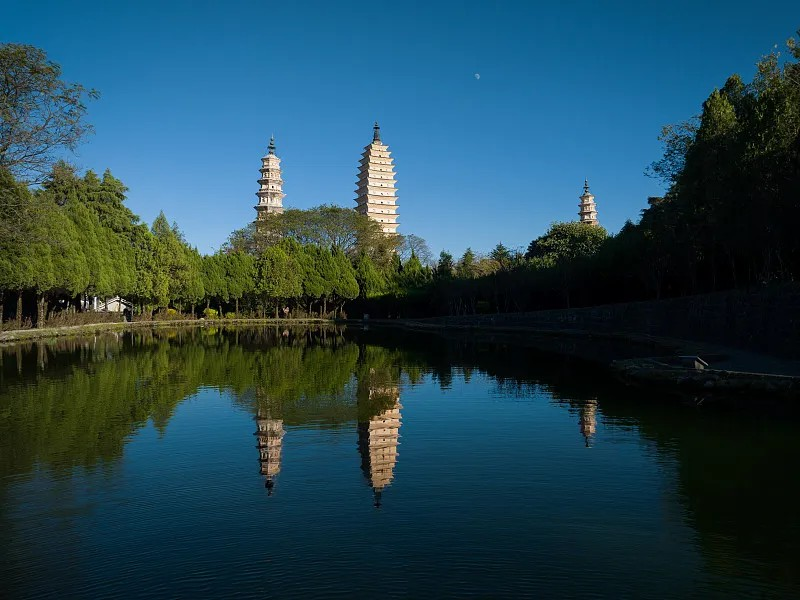ThreePagoda: (354, 122, 402, 239)
